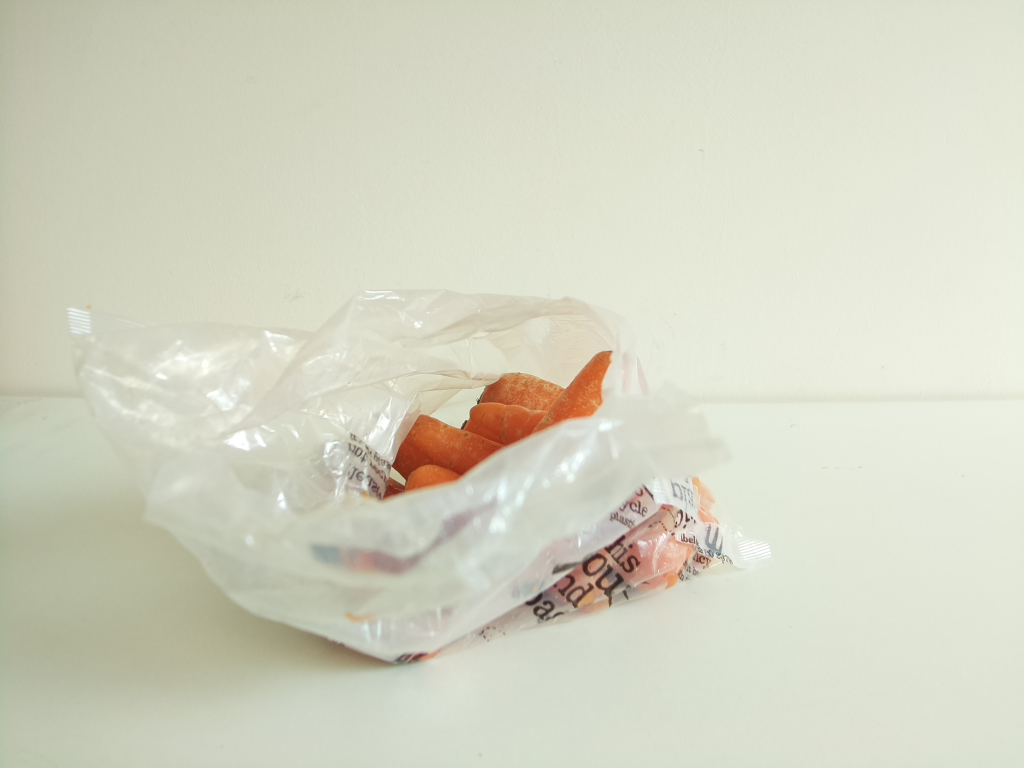carrot: (361, 340, 726, 638)
